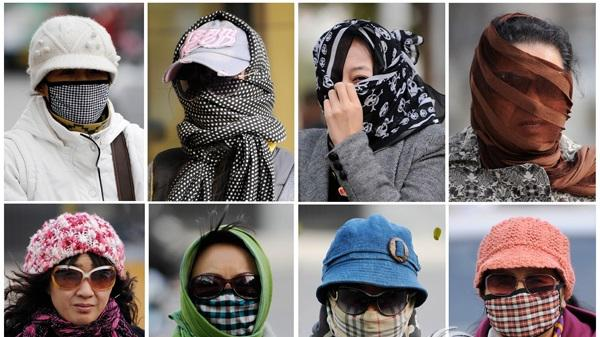NONE: (486, 63, 567, 143), (55, 267, 117, 324)
OK: (190, 260, 263, 337), (486, 266, 560, 337), (323, 56, 387, 132), (45, 64, 112, 124)
